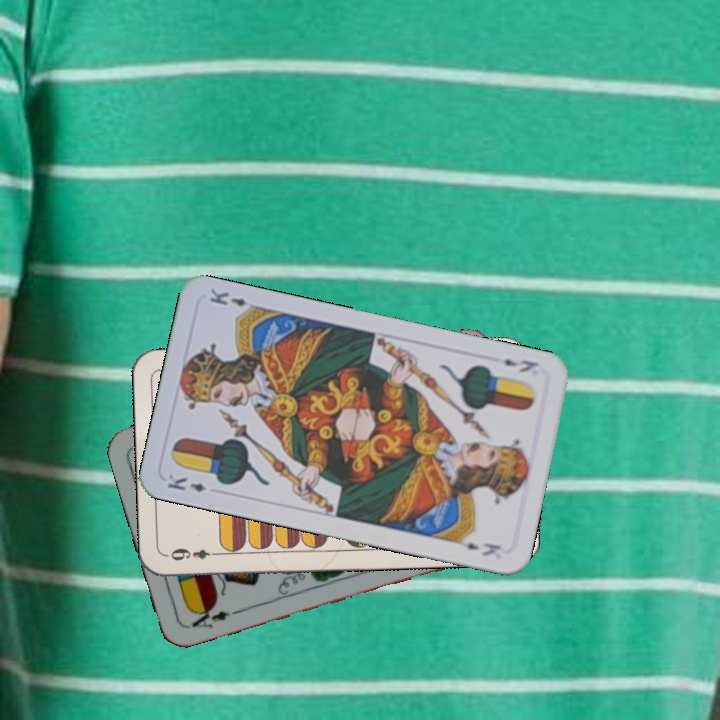E9: (164, 544, 223, 564)
EA: (183, 602, 241, 632)
EK: (163, 470, 209, 495), (499, 354, 541, 375)
